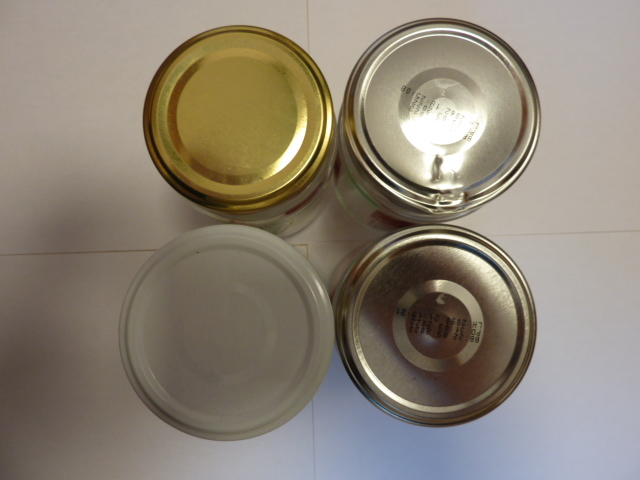damaged: (342, 18, 545, 217)
intact: (117, 222, 335, 443), (143, 23, 334, 211)
